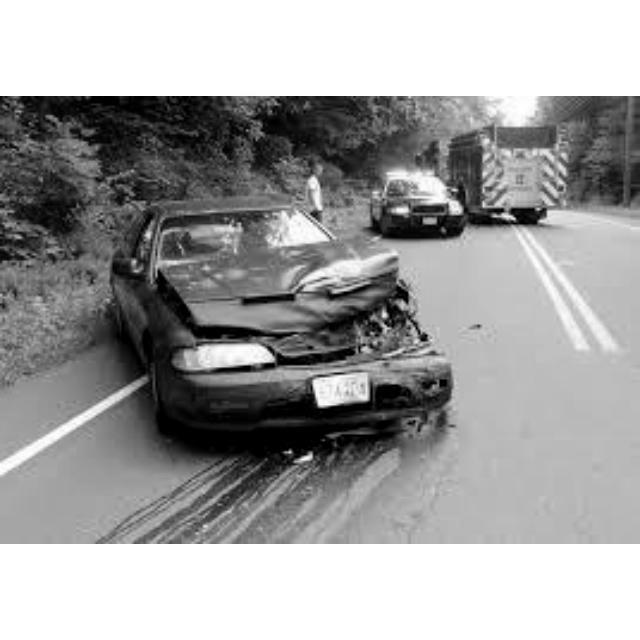Headlight-damage: (368, 295, 430, 364)
bonnet-dent: (156, 242, 406, 325)
front-bumper-dent: (308, 359, 484, 433)
